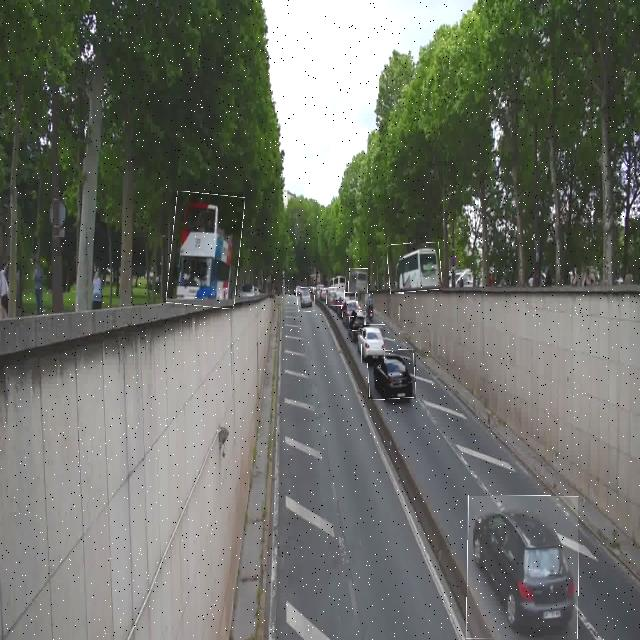Bus: (169, 192, 243, 308), (388, 244, 442, 294), (349, 268, 368, 293)
Car: (467, 496, 578, 640), (368, 350, 416, 399), (362, 324, 385, 363), (297, 288, 314, 312), (342, 293, 358, 317), (327, 287, 345, 306), (350, 310, 366, 331)
